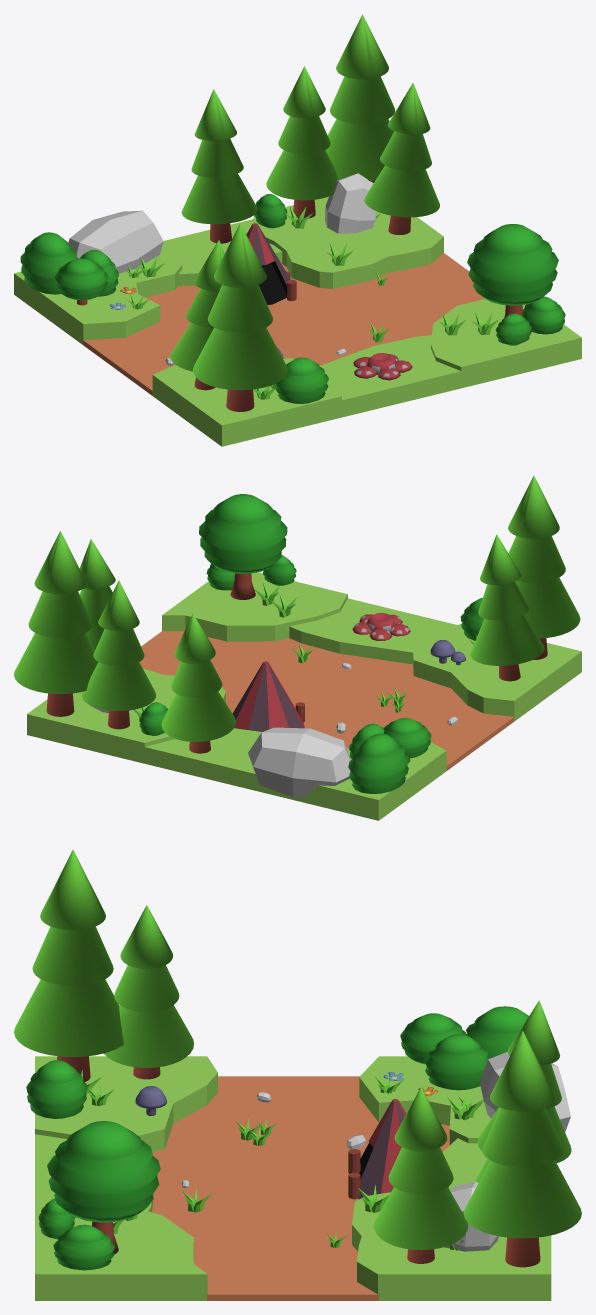
The model's file is jungle level set - 2 Way (6).fbx.
3 views of the same model, one above another, from view 1: azimuth 30°, elevation 25°; view 2: azimuth 150°, elevation 25°; view 3: azimuth 270°, elevation 25° (orthographic). The views are drawn at different scales.
Parts seen in each view (by area): view 1: land_platform, tree_006, tree_001, tree_002, tree_007, tree, tree_003, stone, tree_005, stone_001, bush_003, camp (+7 smaller); view 2: land_platform, tree_001, tree_006, tree_003, tree, tree_005, tree_007, stone, camp, bush_003, tree_002, tree_004 (+6 smaller); view 3: land_platform, tree_001, tree_006, tree_002, tree_003, tree_005, camp, bush_005, bush_001, tree_007, bush, bush_003 (+5 smaller).
Part boxes in pixels (x1=…): land_platform: x1=14, y1=196, x2=581, y2=446; tree_006: x1=193, y1=223, x2=287, y2=411; tree_001: x1=325, y1=14, x2=395, y2=182; tree_002: x1=364, y1=83, x2=439, y2=234; tree_007: x1=181, y1=89, x2=257, y2=243; tree: x1=266, y1=66, x2=339, y2=218; tree_003: x1=467, y1=224, x2=558, y2=317; stone: x1=68, y1=210, x2=163, y2=273; tree_005: x1=170, y1=240, x2=224, y2=390; stone_001: x1=325, y1=173, x2=375, y2=233; bush_003: x1=20, y1=232, x2=77, y2=294; camp: x1=246, y1=223, x2=296, y2=304; land_platform: x1=27, y1=572, x2=581, y2=820; tree_001: x1=14, y1=531, x2=98, y2=716; tree_006: x1=508, y1=475, x2=580, y2=659; tree_003: x1=199, y1=494, x2=287, y2=599; tree: x1=81, y1=580, x2=155, y2=729; tree_005: x1=470, y1=534, x2=544, y2=681; tree_007: x1=161, y1=613, x2=235, y2=753; stone: x1=248, y1=727, x2=350, y2=797; camp: x1=232, y1=661, x2=304, y2=731; bush_003: x1=348, y1=733, x2=409, y2=793; tree_002: x1=79, y1=539, x2=115, y2=649; tree_004: x1=383, y1=718, x2=431, y2=762; land_platform: x1=35, y1=1056, x2=551, y2=1300; tree_001: x1=464, y1=1031, x2=581, y2=1267; tree_006: x1=14, y1=849, x2=123, y2=1081; tree_002: x1=373, y1=1087, x2=468, y2=1263; tree_003: x1=47, y1=1121, x2=160, y2=1254; tree_005: x1=103, y1=905, x2=193, y2=1079; camp: x1=348, y1=1099, x2=406, y2=1199; bush_005: x1=26, y1=1060, x2=87, y2=1118; bush_001: x1=424, y1=1034, x2=490, y2=1090; tree_007: x1=477, y1=1000, x2=571, y2=1162; bush: x1=53, y1=1224, x2=115, y2=1270; bush_003: x1=466, y1=1006, x2=528, y2=1058.
Size of the model in its own units: 16.26 by 8.53 by 16.7.
